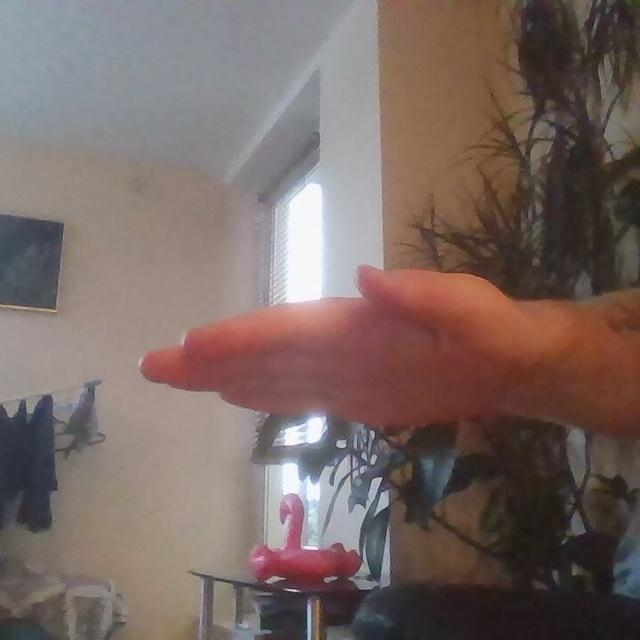papper: (129, 261, 556, 448)
